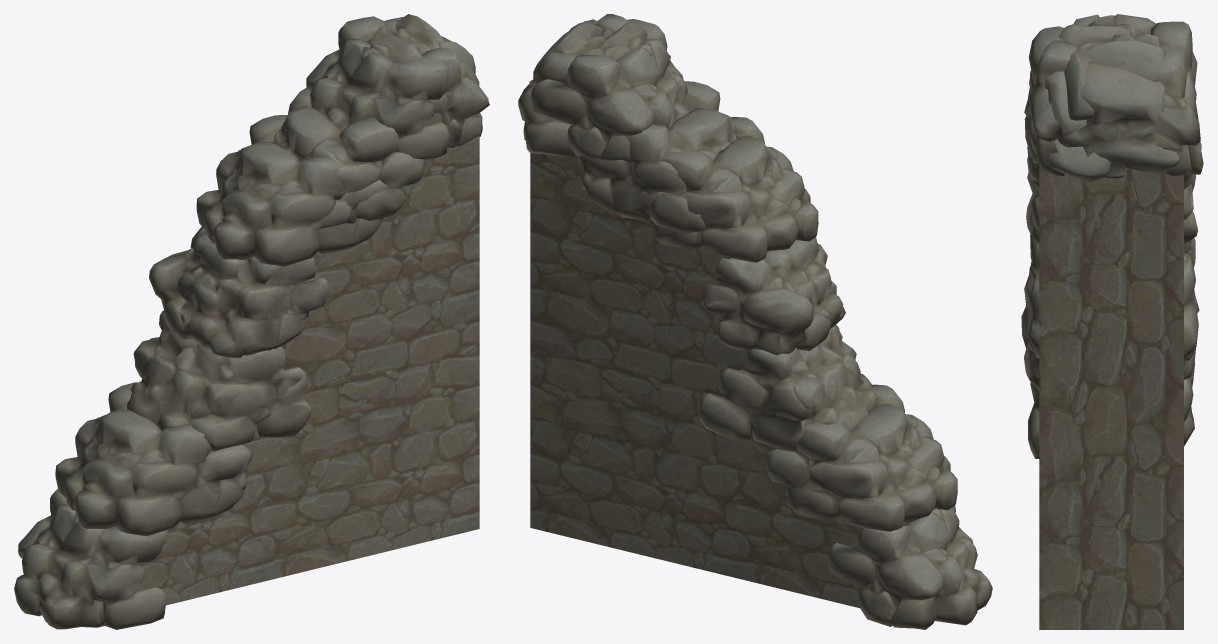
Rendered from MSH_fwOF_Ruins_Wall_End_02.fbx.
3 views of the same model, side by side, from view 1: azimuth 30°, elevation 25°; view 2: azimuth 150°, elevation 25°; view 3: azimuth 270°, elevation 25° (orthographic). The views are drawn at different scales.
Visible parts, largest first — view 1: MSH_fwOF_Ruins_Wall_End_02_LOD0, MSH_fwOF_Ruins_Wall_End_02_Base; view 2: MSH_fwOF_Ruins_Wall_End_02_LOD0, MSH_fwOF_Ruins_Wall_End_02_Base; view 3: MSH_fwOF_Ruins_Wall_End_02_Base, MSH_fwOF_Ruins_Wall_End_02_LOD0.
Boxes of the visible parts, x1,y1,x2,y2 form: MSH_fwOF_Ruins_Wall_End_02_LOD0: [14, 14, 489, 629]; MSH_fwOF_Ruins_Wall_End_02_Base: [137, 112, 479, 605]; MSH_fwOF_Ruins_Wall_End_02_LOD0: [518, 14, 992, 629]; MSH_fwOF_Ruins_Wall_End_02_Base: [530, 120, 904, 608]; MSH_fwOF_Ruins_Wall_End_02_Base: [1039, 123, 1183, 629]; MSH_fwOF_Ruins_Wall_End_02_LOD0: [1021, 14, 1203, 458].
Size of what is drawn, in the model's own units: 4.12 by 4.53 by 1.26.
